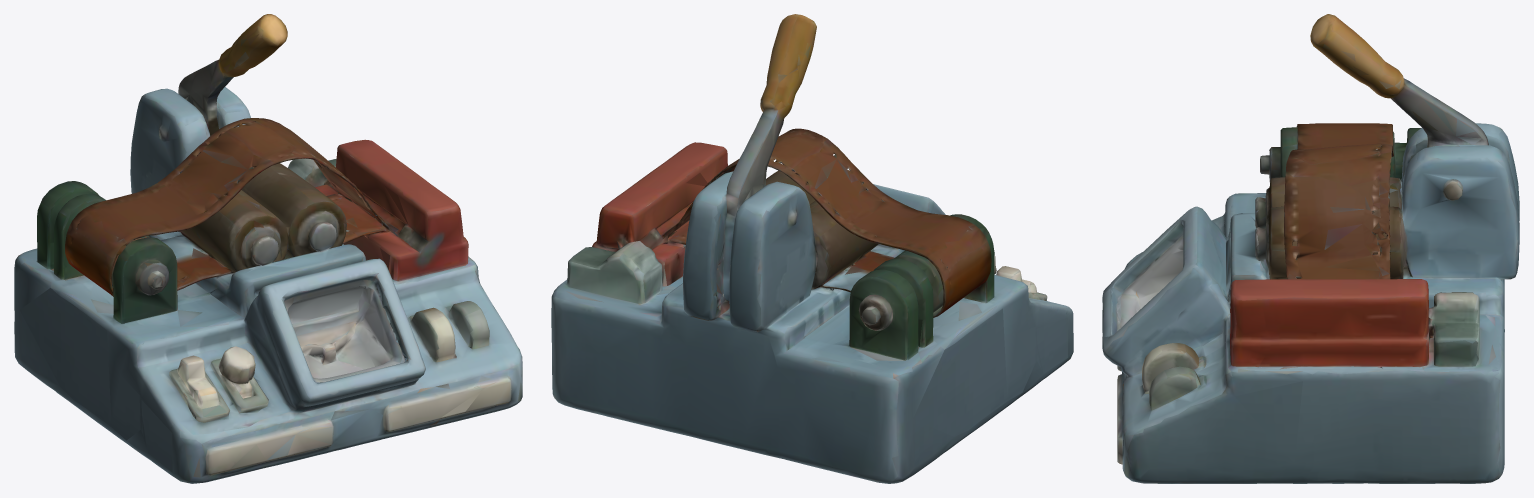
Rendered from sc-subtitle-splicer.glb.
3 views of the same model, side by side, from view 1: azimuth 30°, elevation 25°; view 2: azimuth 150°, elevation 25°; view 3: azimuth 270°, elevation 25° (orthographic). The views are drawn at different scales.
Parts seen in each view (by area): view 1: geometry_0; view 2: geometry_0; view 3: geometry_0.
Part boxes in pixels (x1,y1,x2,y2): geometry_0: (14,14,522,483); geometry_0: (551,14,1073,483); geometry_0: (1102,14,1519,483).
Bounding box in the file's own units: 0.9927 × 0.9946 × 0.9701.
1 material, 1 textured.
